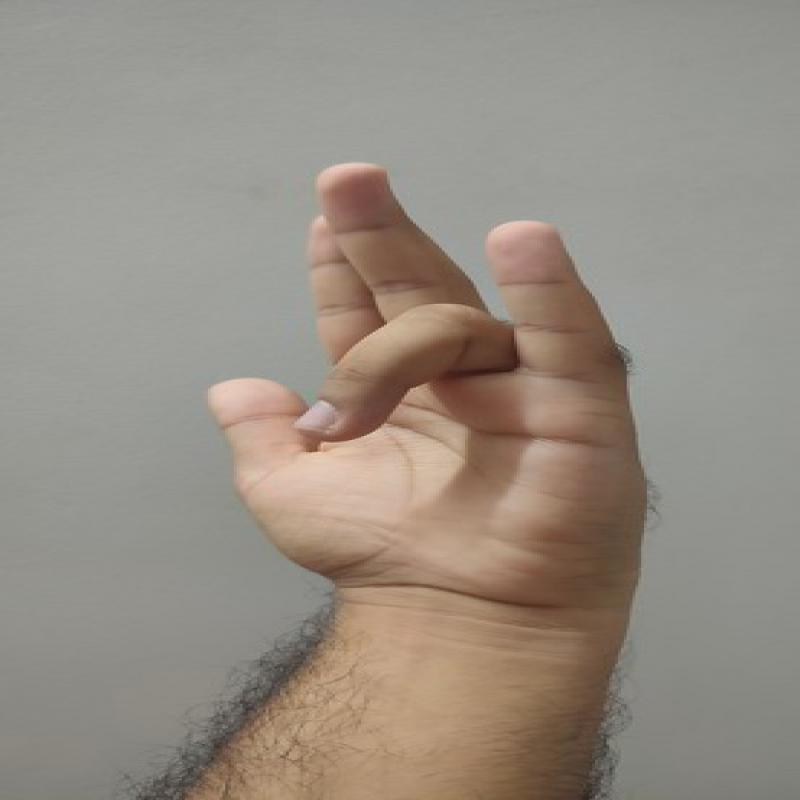Pathaaka: (193, 154, 677, 626)
